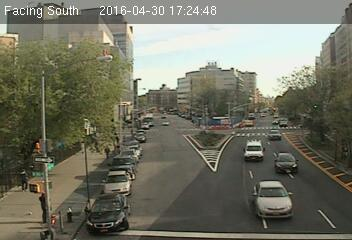neg: (256, 173, 289, 217), (96, 194, 124, 231), (275, 147, 294, 172), (246, 137, 265, 162), (30, 90, 47, 113), (327, 100, 344, 122), (201, 146, 217, 168), (230, 73, 246, 95), (62, 205, 77, 225), (332, 144, 346, 163), (271, 127, 282, 142), (208, 116, 218, 129), (132, 117, 142, 129), (280, 115, 288, 127), (184, 107, 192, 118), (245, 110, 252, 119)
pos: (30, 190, 55, 224), (14, 168, 30, 190), (100, 142, 115, 161)
